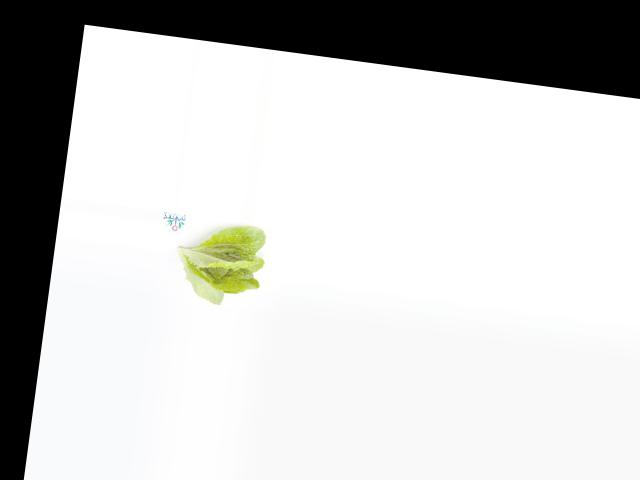lettuce: (170, 218, 271, 312)
